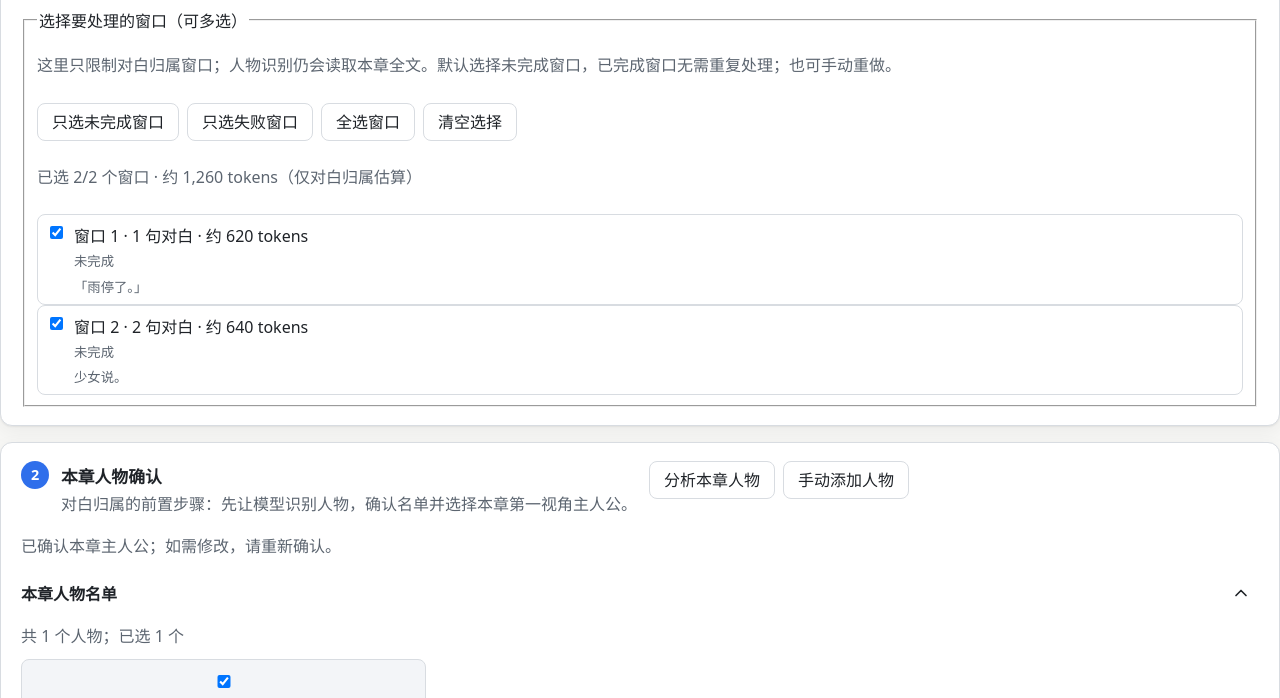
Scenario: PreviewPage › 估算只走本地接口，试运行用 preview 模式创建任务并轮询
(page scrolled)
Expected: the element with test id "window-picker" shows "窗口 1", [23, 8, 1257, 407]
Click the checkbox with test id "window-w2". click: point(56, 323)
box: [50, 317, 63, 330]
(page scrolled)
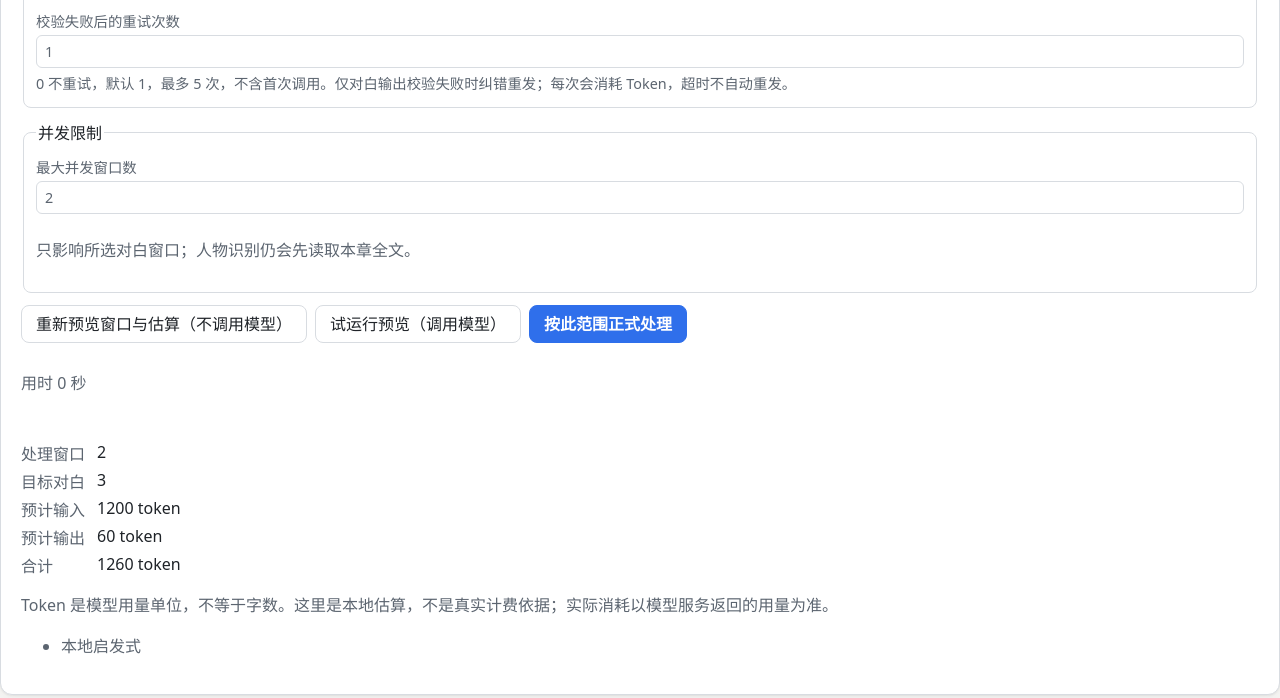
Click the button with test id "preview-run". click: point(418, 324)
box: [315, 305, 521, 343]
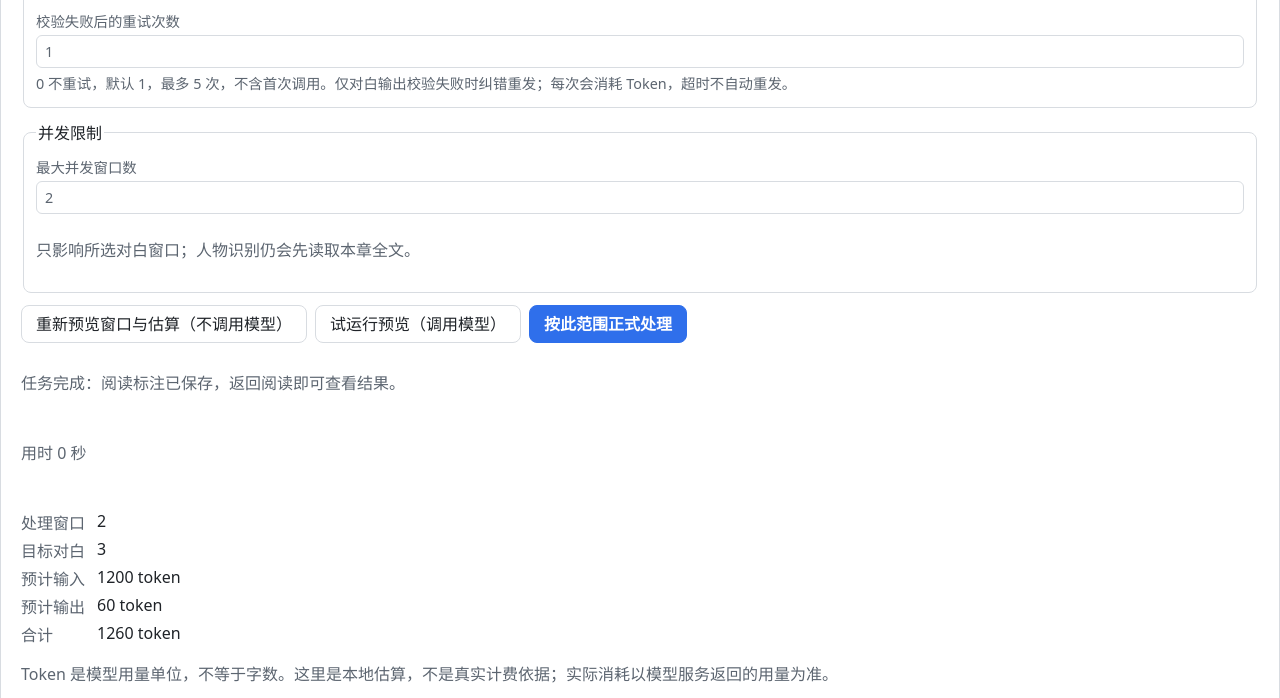
Now the text with test id "preview-notice" shows "阅读标注", box [21, 372, 405, 394]
